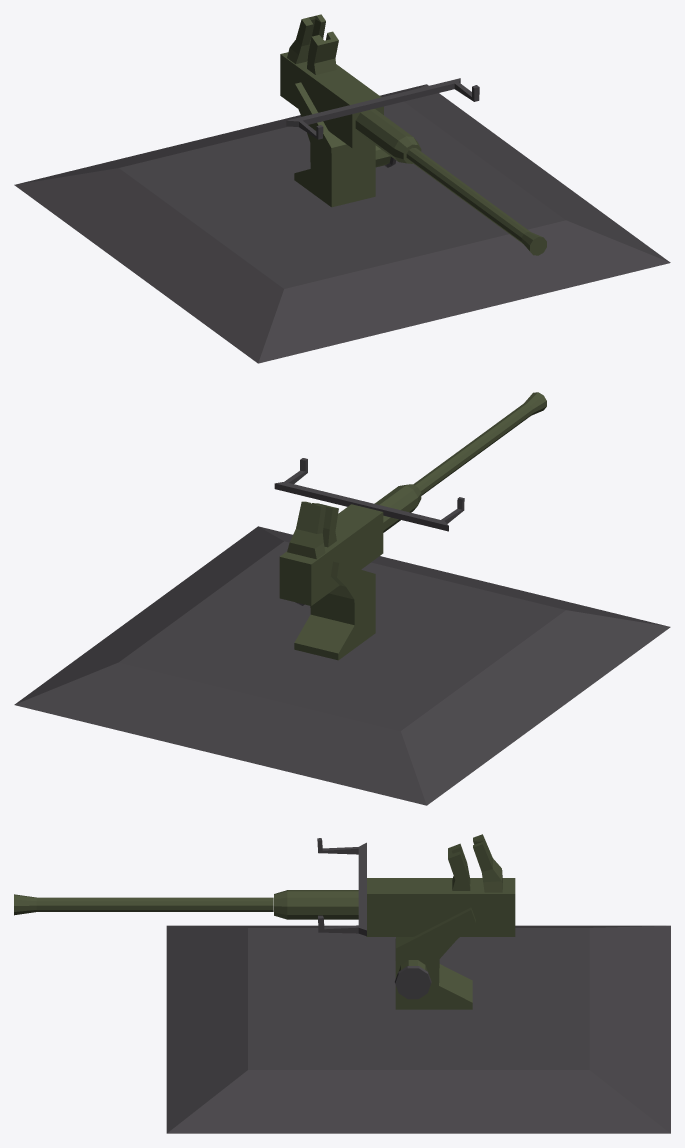
The model's file is bofors40mm.fbx.
The picture shows the model from 3 angles, top to bottom: view 1: azimuth 30°, elevation 25°; view 2: azimuth 150°, elevation 25°; view 3: azimuth 270°, elevation 25°; orthographic projection. The views are drawn at different scales.
Visible parts, largest first — view 1: Cube, Gun, Handle, Rifle; view 2: Cube, Gun, Handle, Rifle; view 3: Cube, Gun, Handle, Rifle.
Part boxes in pixels (x1,y1,x2,y2): Cube: (14, 84, 670, 363); Gun: (280, 14, 479, 163); Handle: (292, 82, 396, 207); Rifle: (406, 148, 546, 255); Cube: (14, 526, 670, 805); Gun: (274, 458, 464, 605); Handle: (294, 561, 375, 660); Rifle: (413, 392, 546, 495); Cube: (166, 925, 670, 1133); Gun: (274, 834, 515, 936); Handle: (395, 907, 475, 1009); Rifle: (14, 894, 273, 915).
Size of the model in its own units: 1371 by 585 by 1829.
